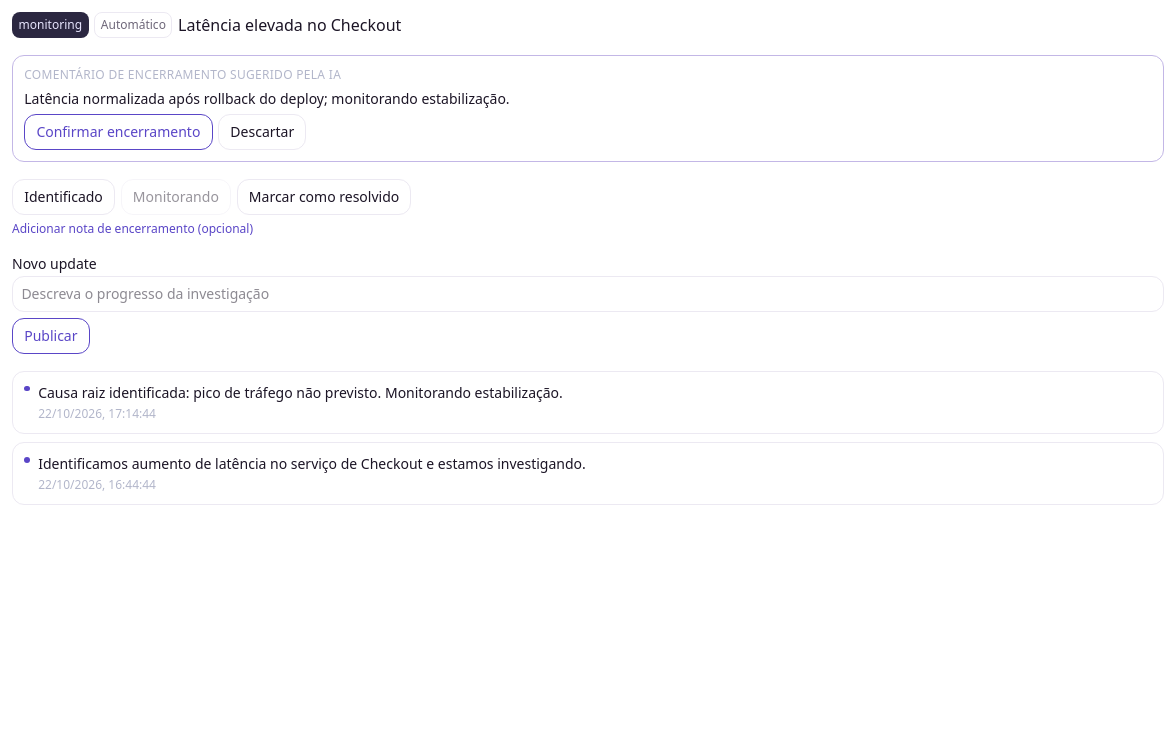
it: IncidentDetail › marking as resolved moves the incident to history while keeping the timeline accessible
This screenshot has width=1176, height=732.
Expected: the text "Identificamos aumento de latência" is shown, [38,454,586,474]
Click the button "Marcar como resolvido": (324, 197) [237,179,411,215]
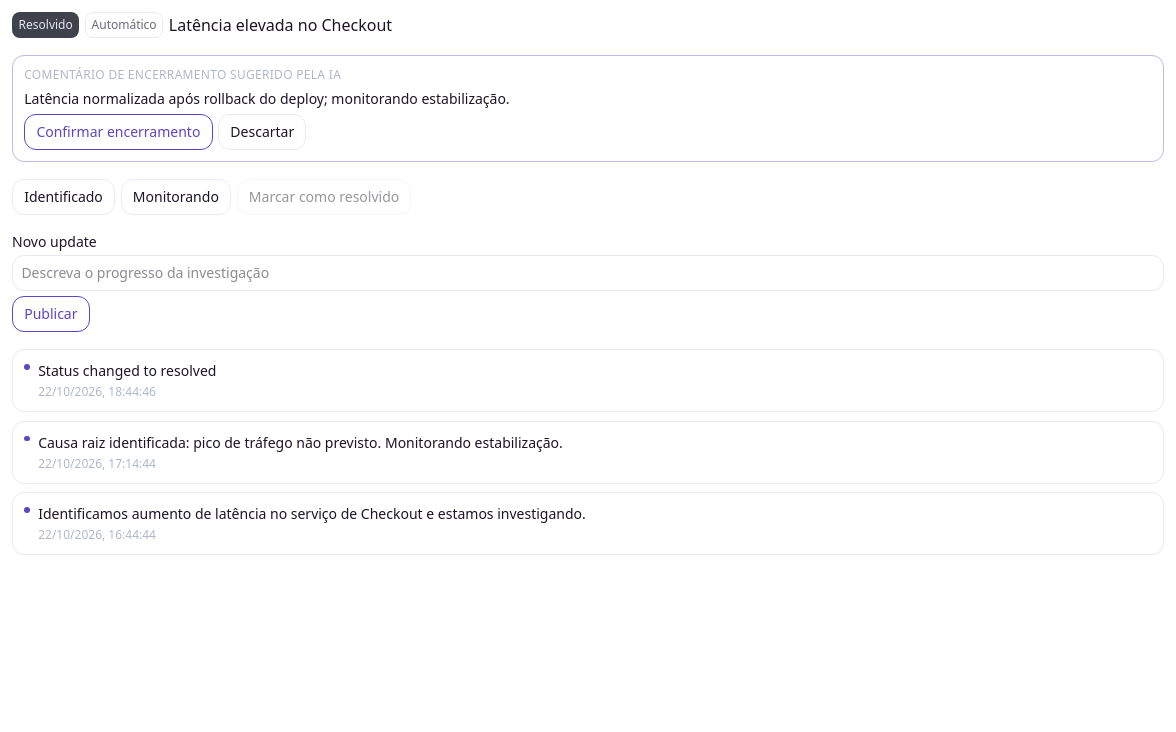
Expected: the text "Identificamos aumento de latência" is shown, [38,504,586,524]
Result: the text "Resolvido" is shown at [12,12,79,38]
